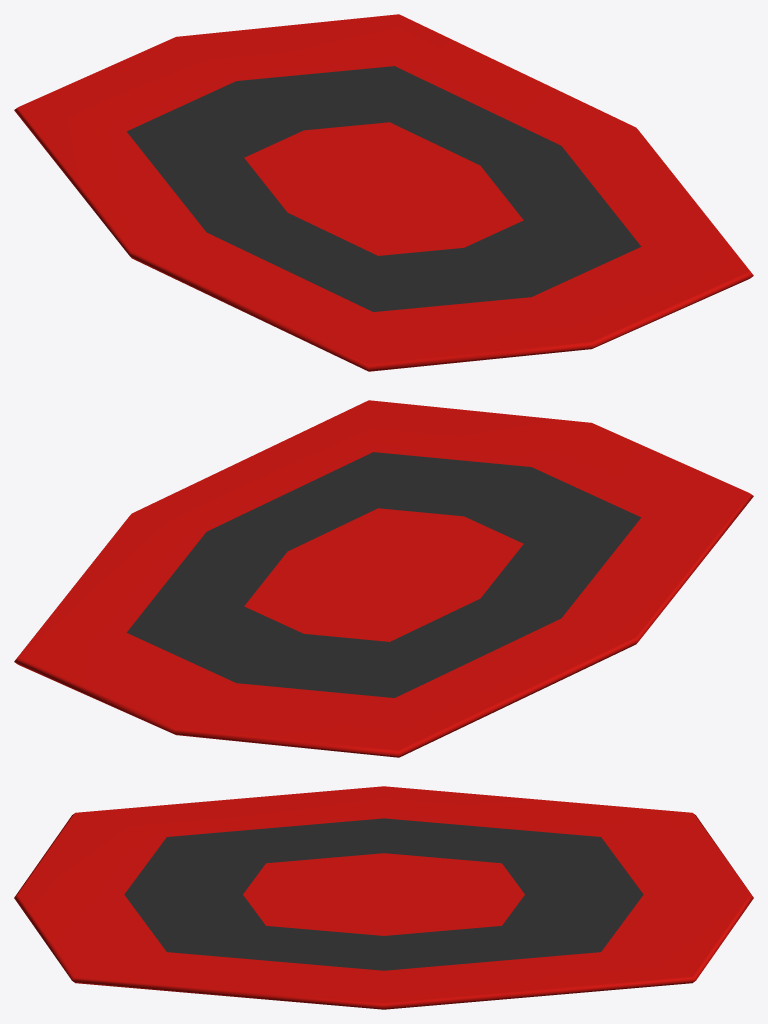
The model's file is Rug_Carpet.fbx.
The picture shows the model from 3 angles, top to bottom: view 1: azimuth 30°, elevation 25°; view 2: azimuth 150°, elevation 25°; view 3: azimuth 270°, elevation 25°; orthographic projection. The views are drawn at different scales.
Visible parts, largest first — view 1: Cube.001, Cube.002, Cube.003; view 2: Cube.001, Cube.002, Cube.003; view 3: Cube.001, Cube.002, Cube.003.
Boxes of the visible parts, bbox=[...] form: Cube.001: bbox=[14, 14, 753, 371]; Cube.002: bbox=[126, 66, 641, 311]; Cube.003: bbox=[244, 122, 523, 255]; Cube.001: bbox=[14, 400, 753, 757]; Cube.002: bbox=[126, 452, 641, 697]; Cube.003: bbox=[244, 508, 523, 641]; Cube.001: bbox=[14, 786, 753, 1009]; Cube.002: bbox=[124, 818, 643, 970]; Cube.003: bbox=[243, 853, 524, 935].
Size of the model in its own units: 854 by 12.43 by 1220.
